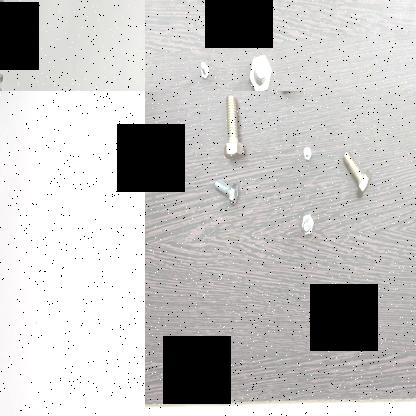Bolts: (219, 91, 248, 161), (341, 143, 372, 201), (243, 50, 272, 91), (212, 174, 242, 206), (296, 208, 314, 244), (136, 117, 145, 187), (196, 54, 212, 83), (301, 143, 311, 163)
